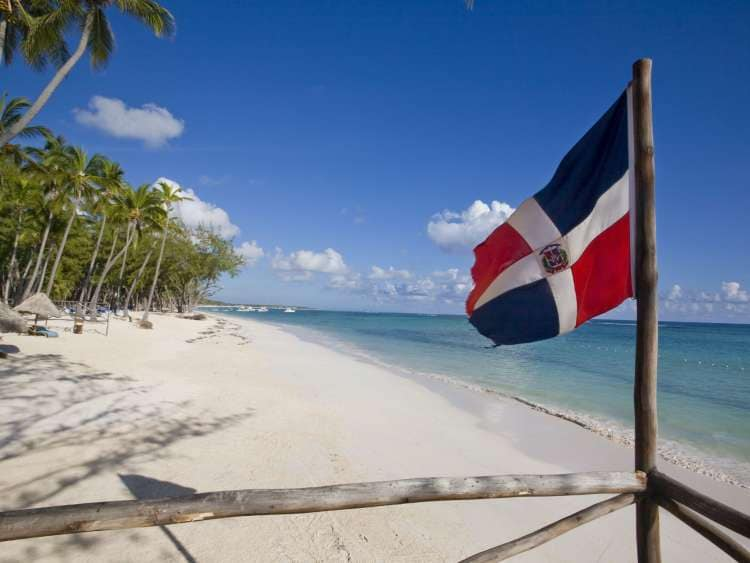Flag: (463, 73, 653, 356)
